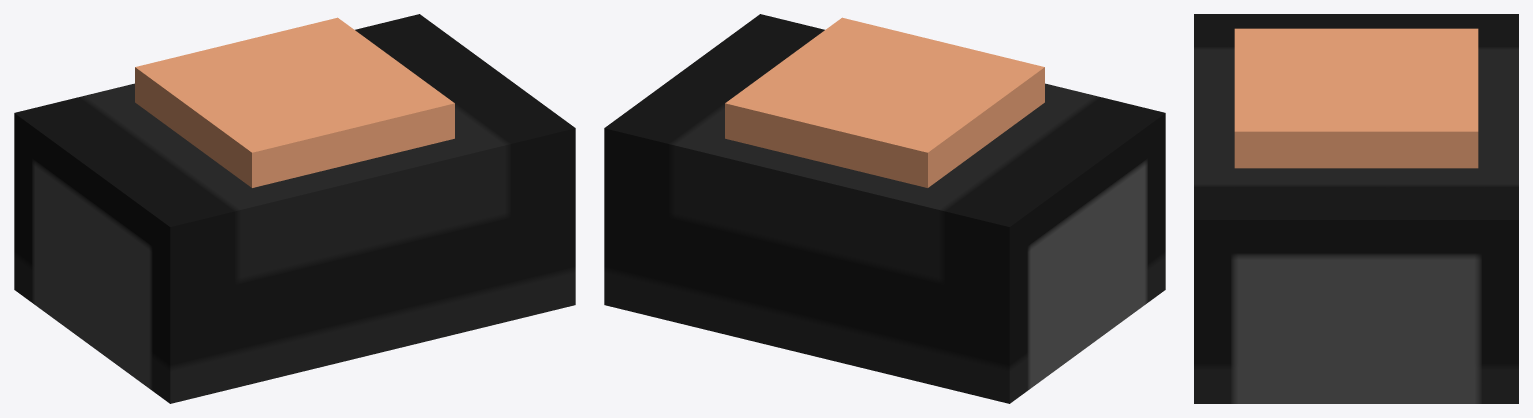
The model's file is Chest081.fbx.
The picture shows the model from 3 angles, left to right: view 1: azimuth 30°, elevation 25°; view 2: azimuth 150°, elevation 25°; view 3: azimuth 270°, elevation 25°; orthographic projection. The views are drawn at different scales.
Visible parts, largest first — view 1: Chest081; view 2: Chest081; view 3: Chest081.
Part boxes in pixels (box(x1,y1,x2,y2)): Chest081: box(14, 14, 575, 403); Chest081: box(604, 14, 1165, 403); Chest081: box(1194, 14, 1518, 403).
Size of the model in its own units: 12 by 6 by 8.
